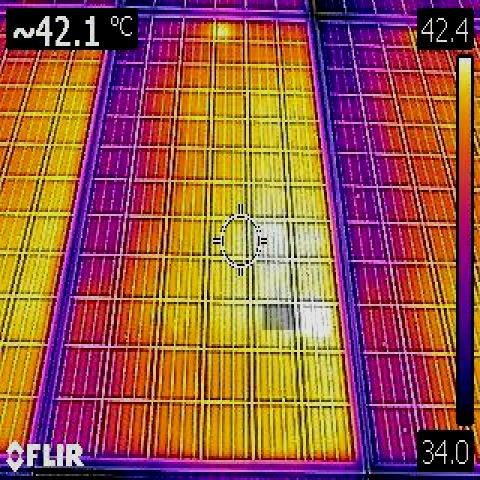fault: (298, 301, 330, 337), (267, 220, 290, 259), (262, 304, 293, 330), (209, 22, 232, 40)
